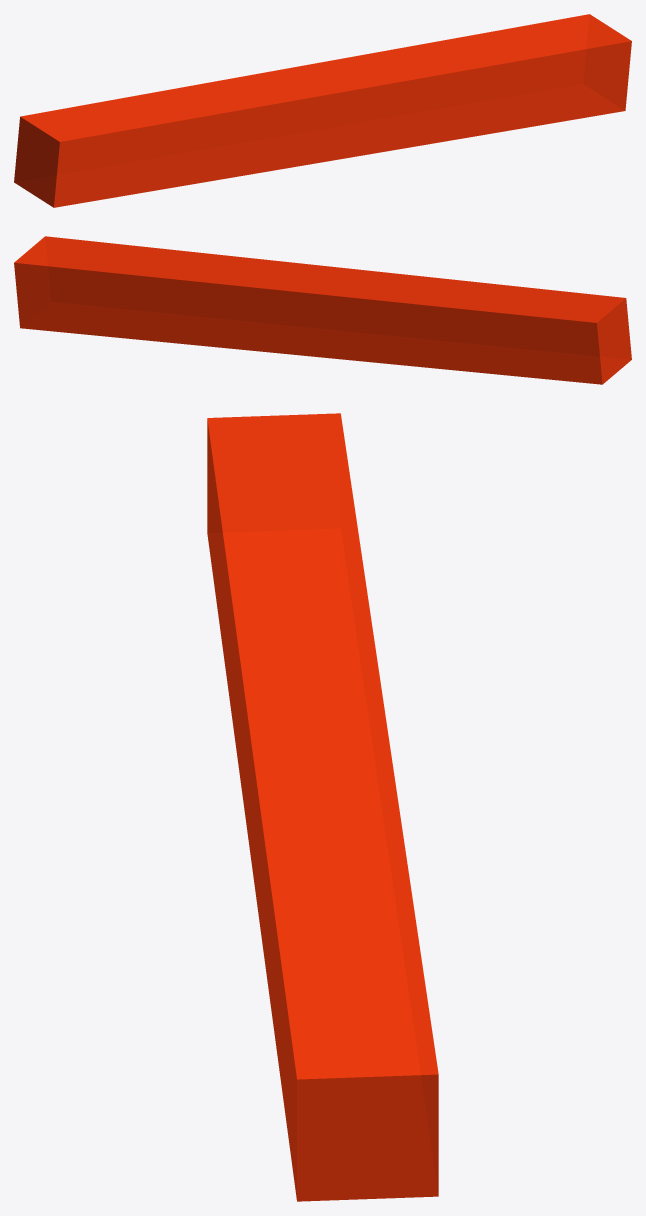
Rendered from Event_421278790_EErechit_66.fbx.
3 renders of one model, top to bottom at view 1: azimuth 30°, elevation 25°; view 2: azimuth 150°, elevation 25°; view 3: azimuth 270°, elevation 25°, orthographic. The views are drawn at different scales.
Visible parts, largest first — view 1: Model; view 2: Model; view 3: Model.
Boxes of the visible parts, x1,y1,x2,y2 form: Model: [14, 14, 631, 207]; Model: [14, 236, 631, 384]; Model: [207, 413, 438, 1201].
Size of the model in its own units: 0.7118 by 0.1467 by 0.1255.
